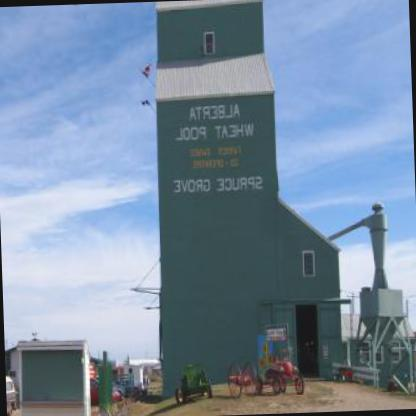car: (89, 376, 123, 406), (109, 378, 125, 393)
